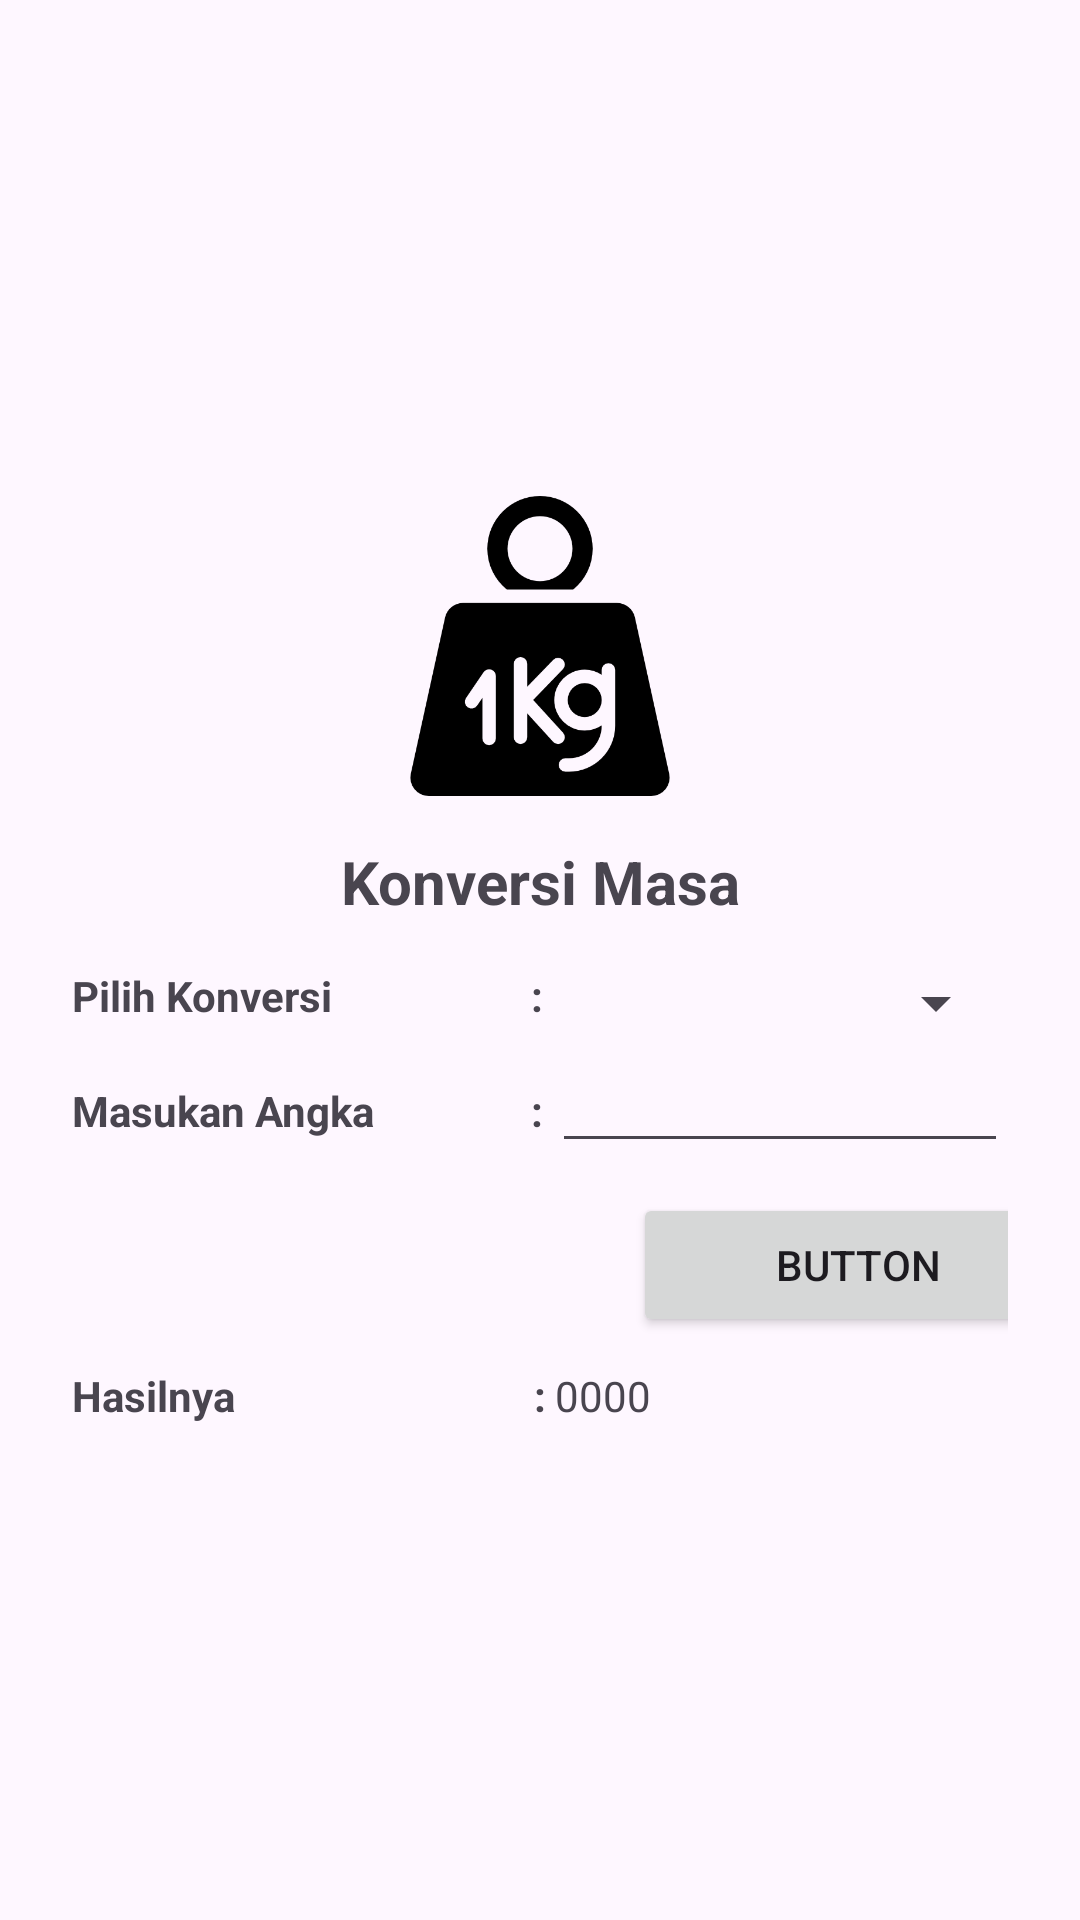

Locate icon controls on the screen. Image size 1080px x 1920px, boxes as (x1, y1, x2, y2).
weight: (410, 496, 670, 796)
